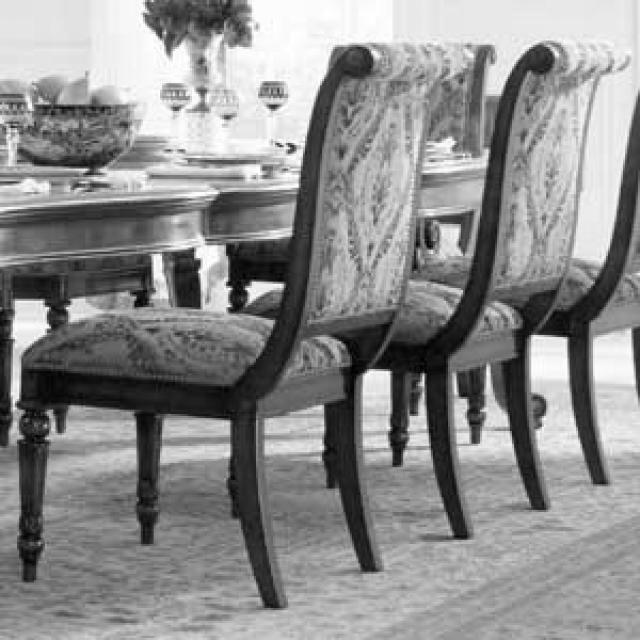chair: (27, 43, 451, 608), (230, 39, 632, 532)
